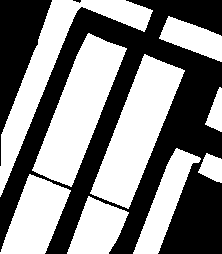parkingspot: (0, 0, 83, 196), (108, 62, 184, 208), (90, 54, 165, 201), (50, 41, 126, 186), (32, 33, 106, 179), (133, 148, 200, 254), (0, 174, 51, 254), (21, 182, 70, 254), (159, 16, 222, 61), (67, 196, 108, 254), (79, 0, 152, 31), (88, 204, 128, 254), (205, 87, 222, 131), (198, 153, 222, 182)
